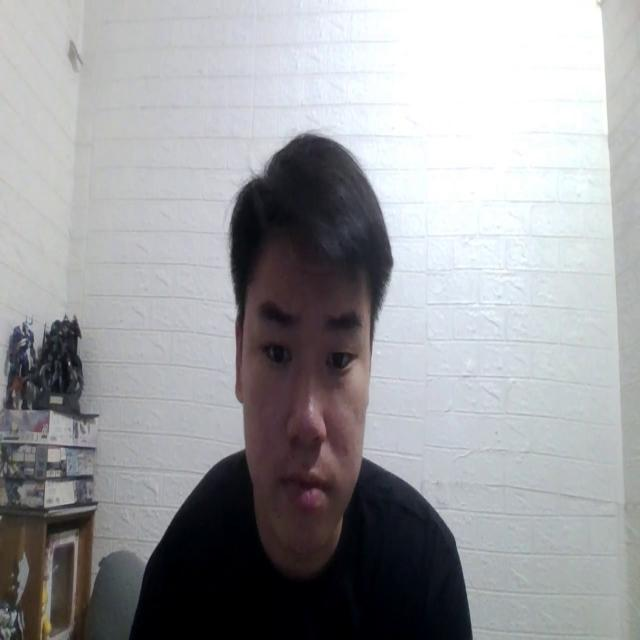student: (131, 117, 477, 640)
